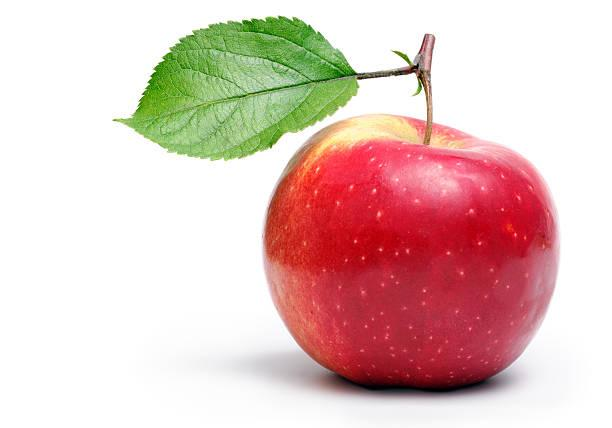Apple leaf: (108, 7, 374, 171)
